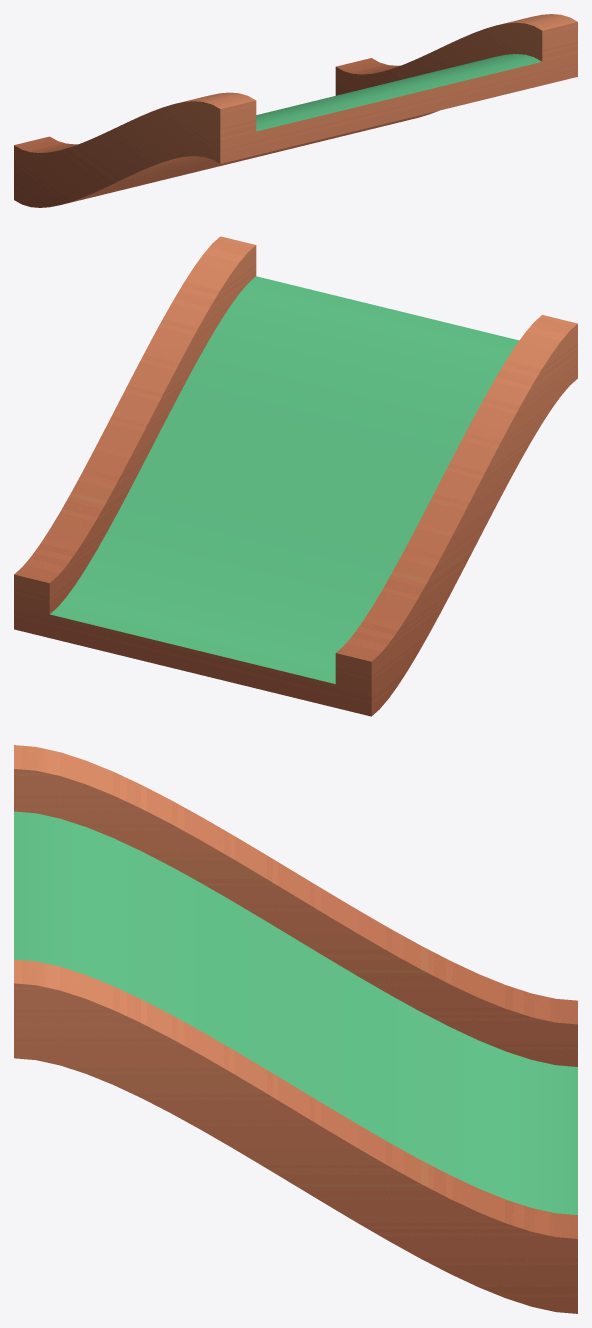
File: ramp.glb
3 renders of one model, top to bottom at view 1: azimuth 30°, elevation 25°; view 2: azimuth 150°, elevation 25°; view 3: azimuth 270°, elevation 25°, orthographic. The views are drawn at different scales.
Visible parts, largest first — view 1: ramp; view 2: ramp; view 3: ramp.
Part boxes in pixels (x1,y1,x2,y2): ramp: (14,14,577,207); ramp: (14,236,577,716); ramp: (14,745,577,1313).
Size of the model in its own units: 0.9999 by 0.6467 by 0.9999.
1 material, 1 textured.
